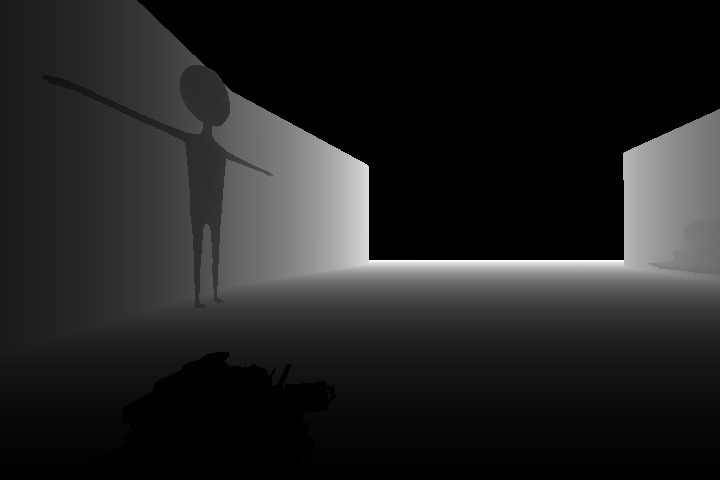alien: (37, 59, 277, 313)
